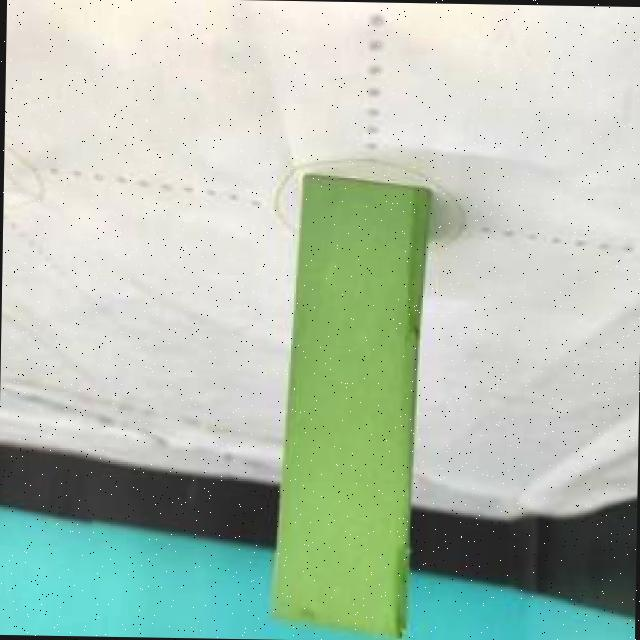greenbox: (258, 173, 432, 640)
